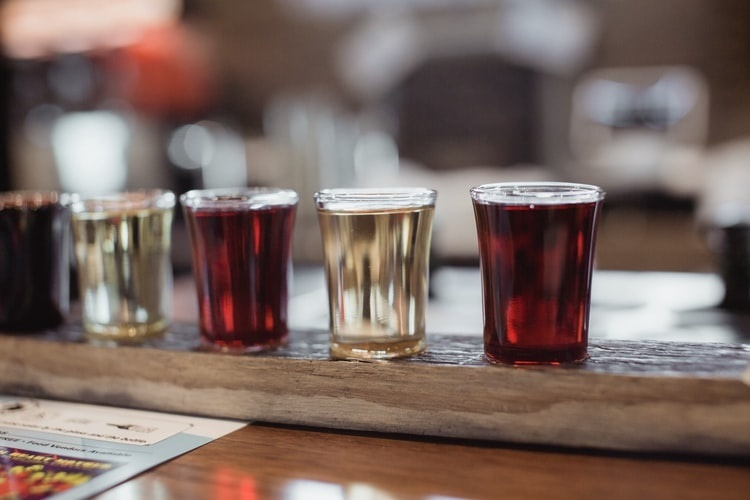whiskey: (474, 184, 605, 355), (310, 185, 441, 356), (177, 183, 308, 354)
